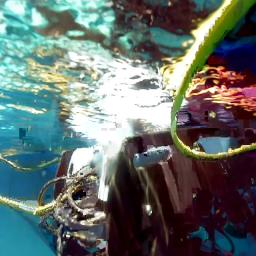back: (53, 130, 256, 256)
